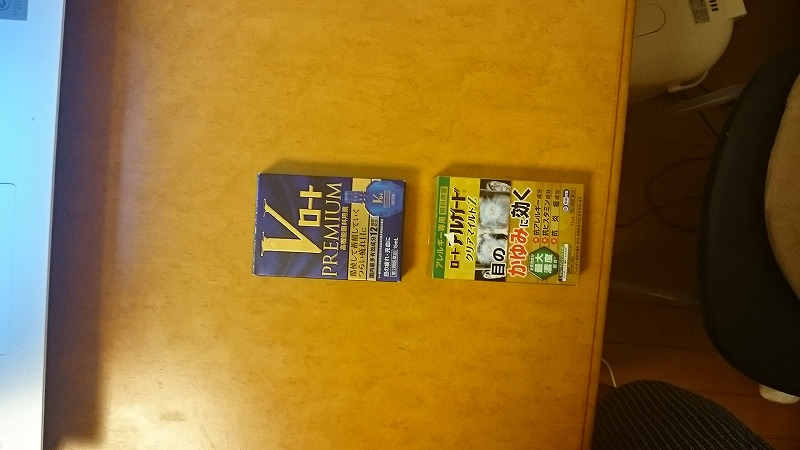C: (427, 173, 588, 293)
D: (250, 164, 407, 288)
